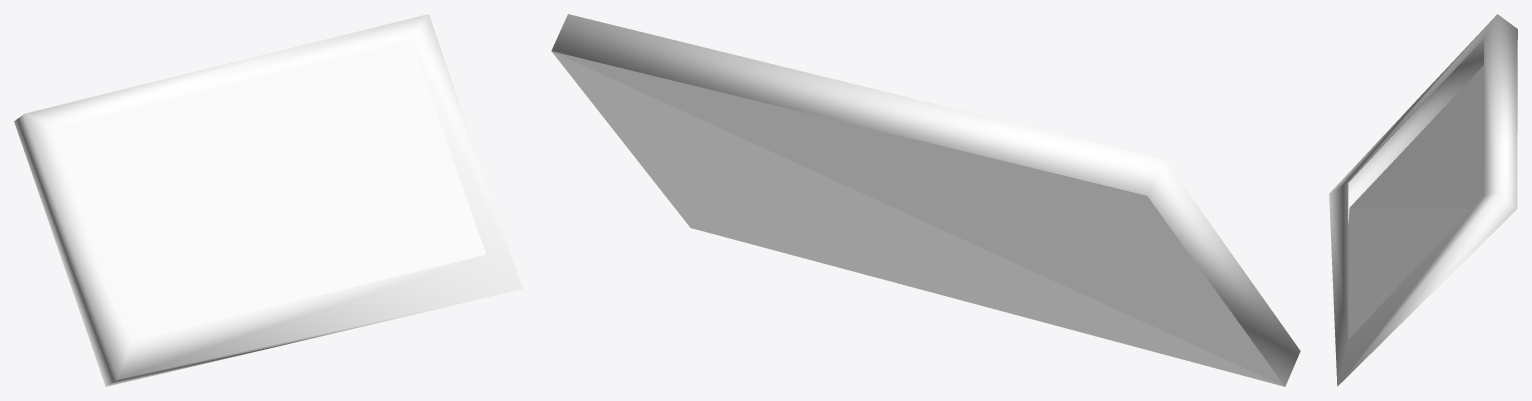
The picture shows the model from 3 angles, left to right: view 1: azimuth 30°, elevation 25°; view 2: azimuth 150°, elevation 25°; view 3: azimuth 270°, elevation 25°; orthographic projection. The views are drawn at different scales.
Size of the model in its own units: 0.1398 by 0.0697 by 0.0613.
Materials: 1 (1 with a texture image).
